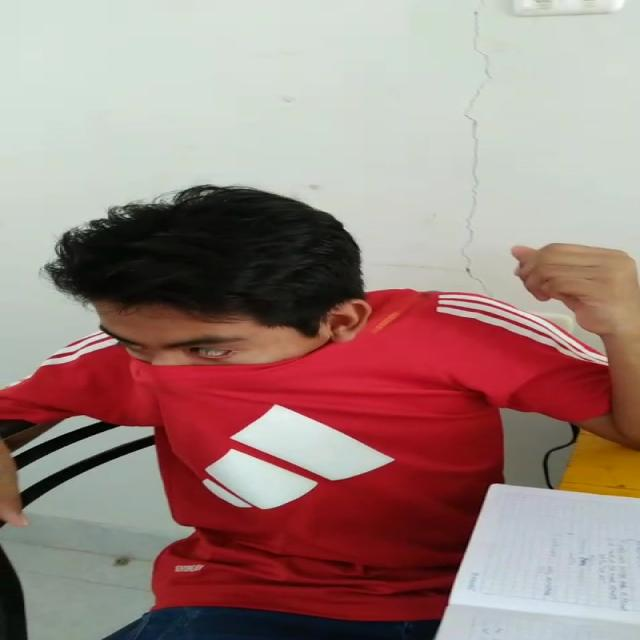8_ropa_rostro: (91, 345, 488, 412)
